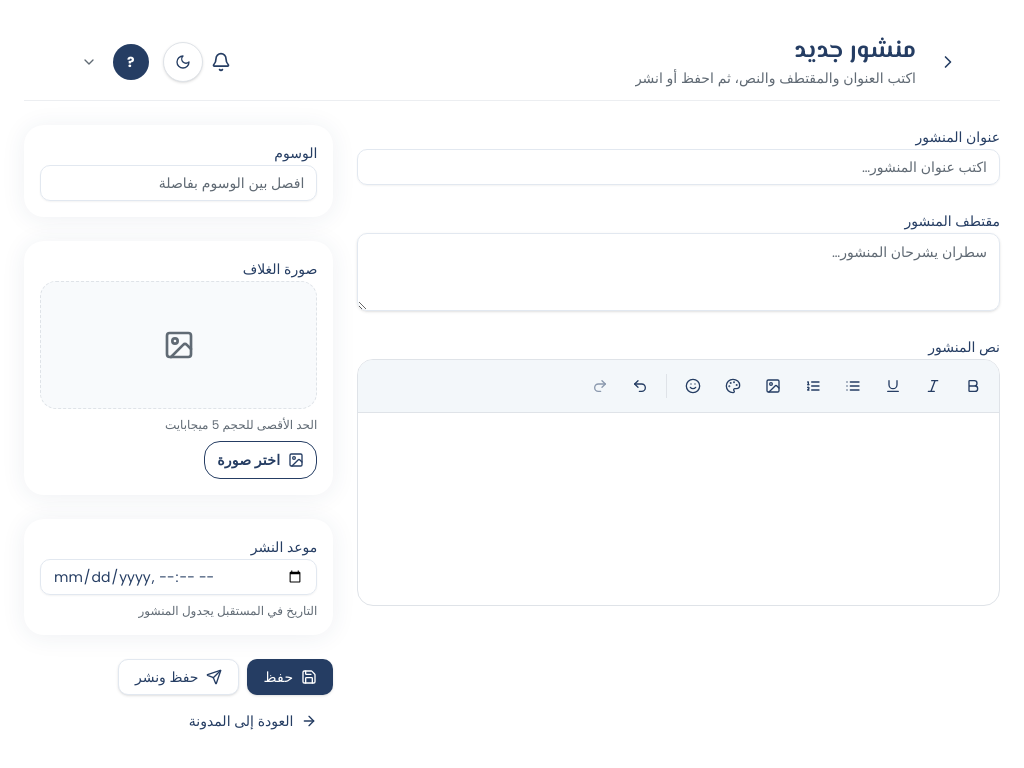
Test: the form of a post of the blog › refuses to save a post without a title
What coordinates should you click on to do the following:
click the button "حفظ"
I would click on:
 (290, 677)
Its box is top-left (248, 659), bottom-right (333, 695).
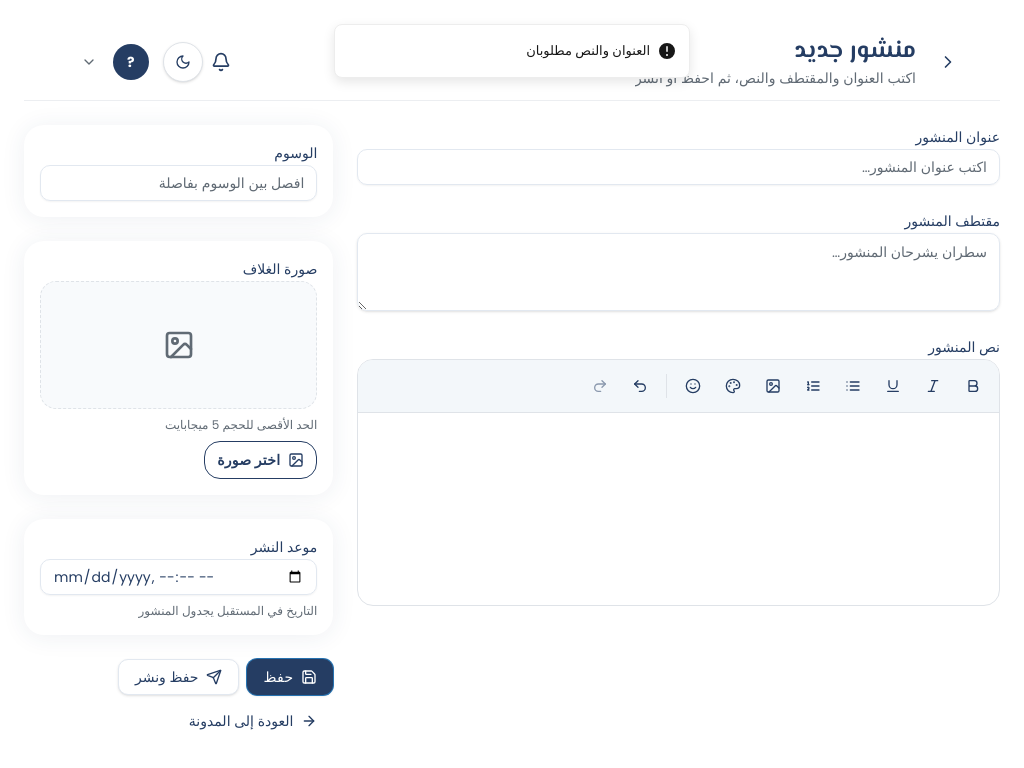
Expected: the text "العنوان والنص مطلوبان" is shown, top-left (526, 41), bottom-right (650, 60)
